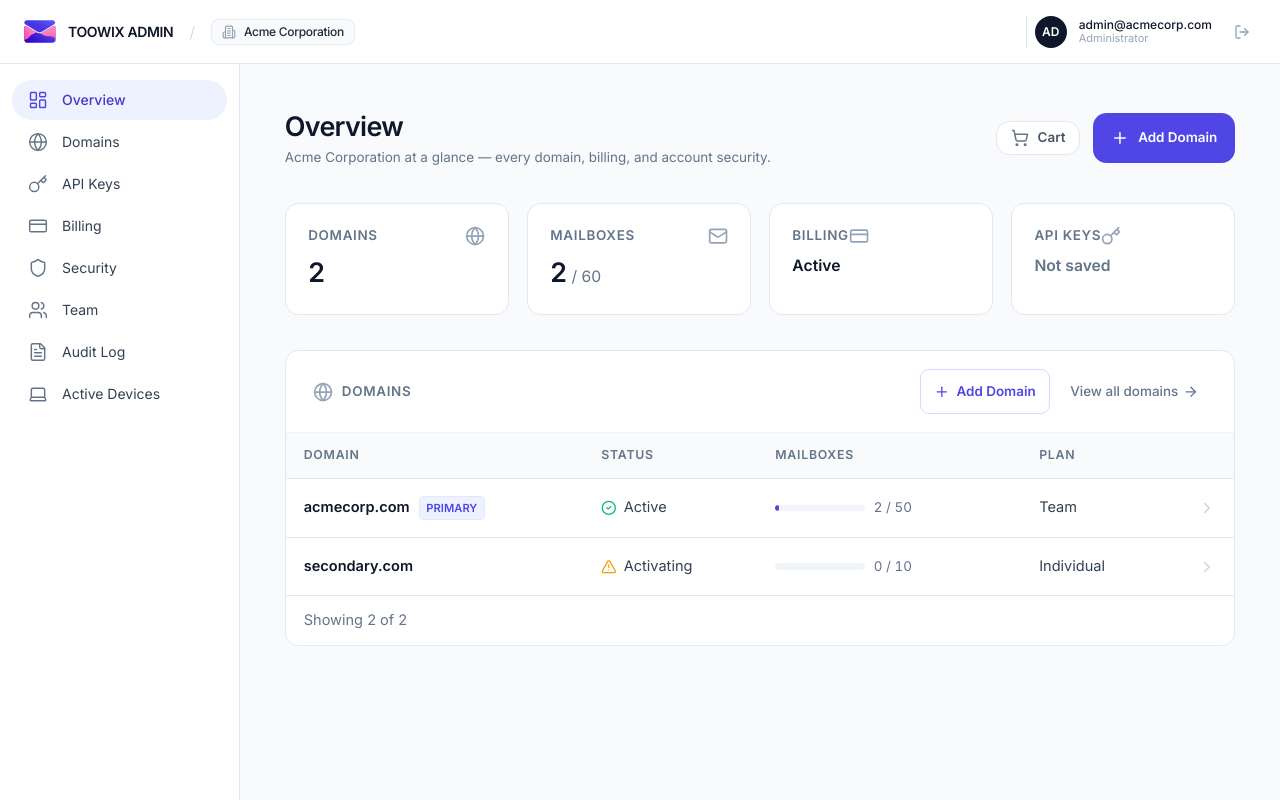
Test: TenantHomeView Component › opens DomainSetupModal when clicking "Add Domain" button on Overview
The width and height of the screenshot is (1280, 800).
Click the 1st button "Add Domain" at (1164, 138), box [1093, 113, 1235, 163]
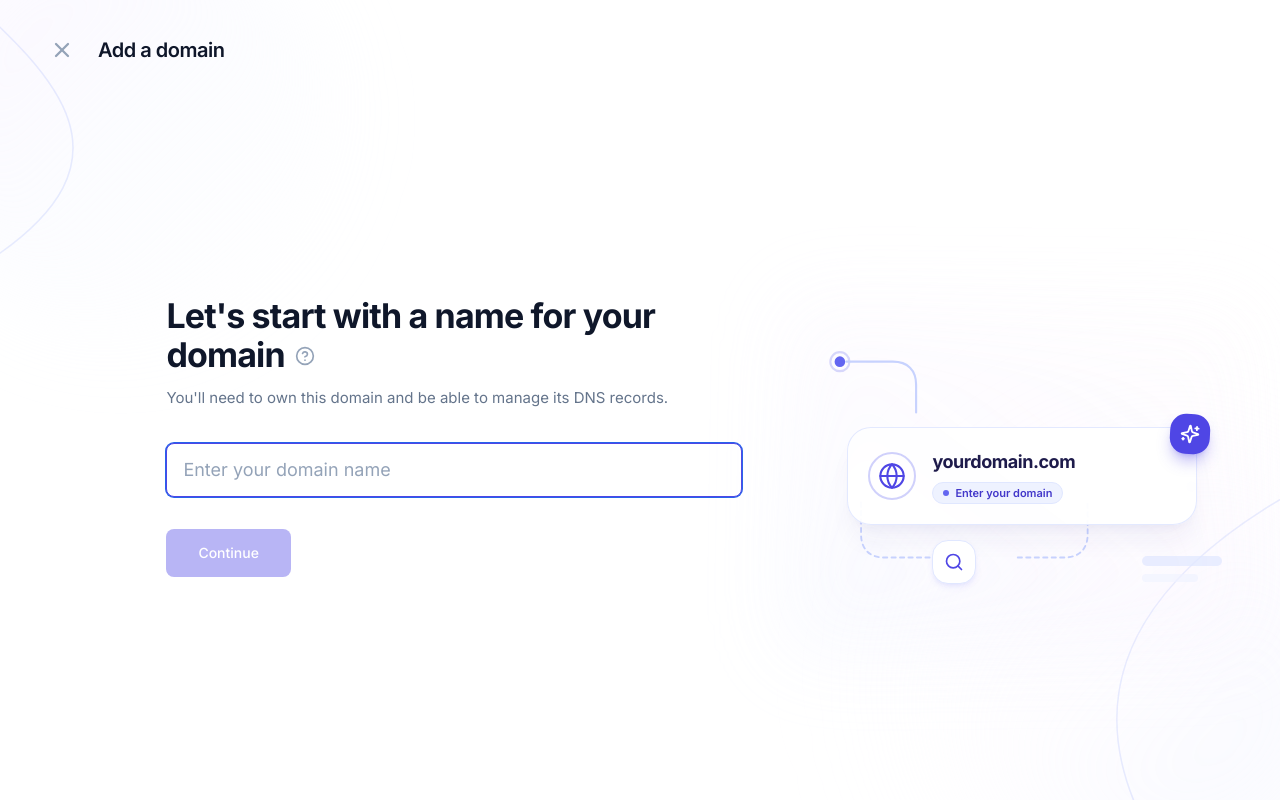
Expected: the dialog is shown
Expected: the text "Let's start with a name for your domain" is shown, [166, 295, 655, 375]
# Close the modal
Click the button named "exit domain setup" at (62, 50), box [40, 28, 84, 72]
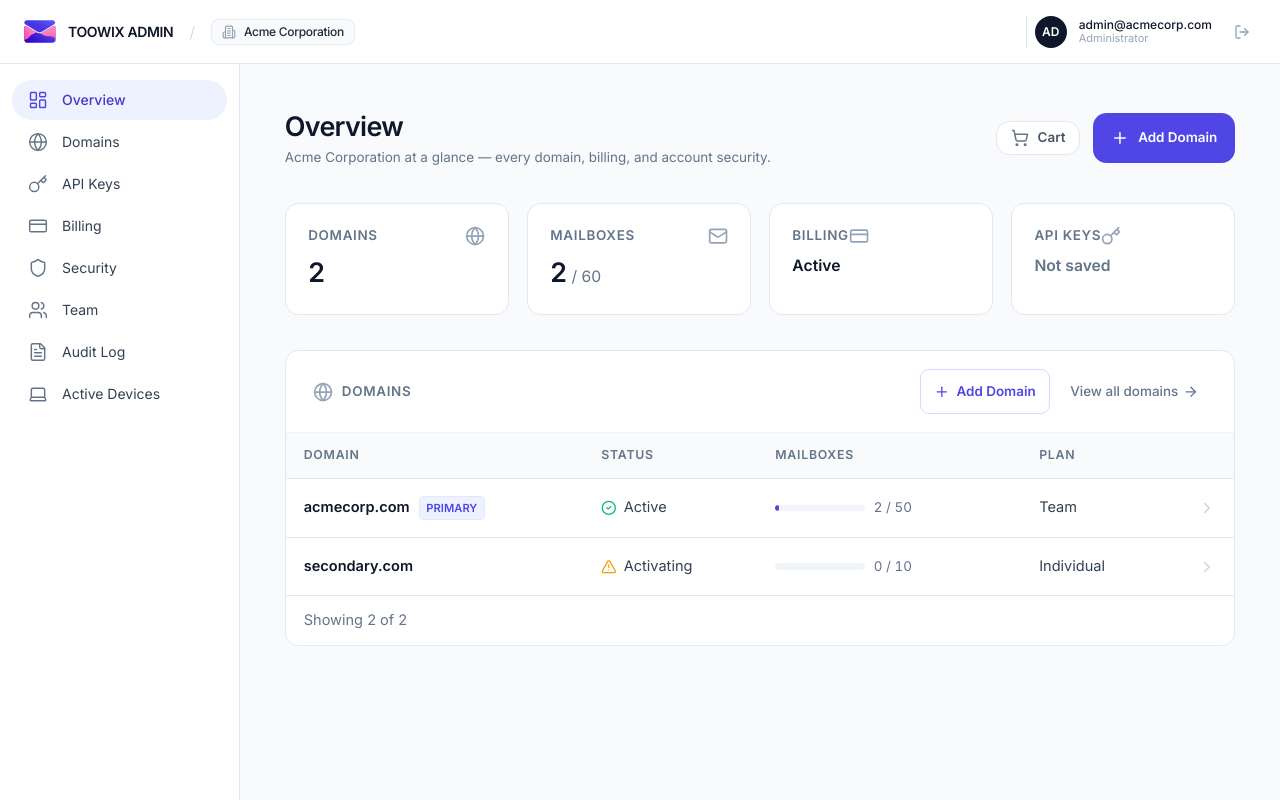
Expected: the dialog is gone
